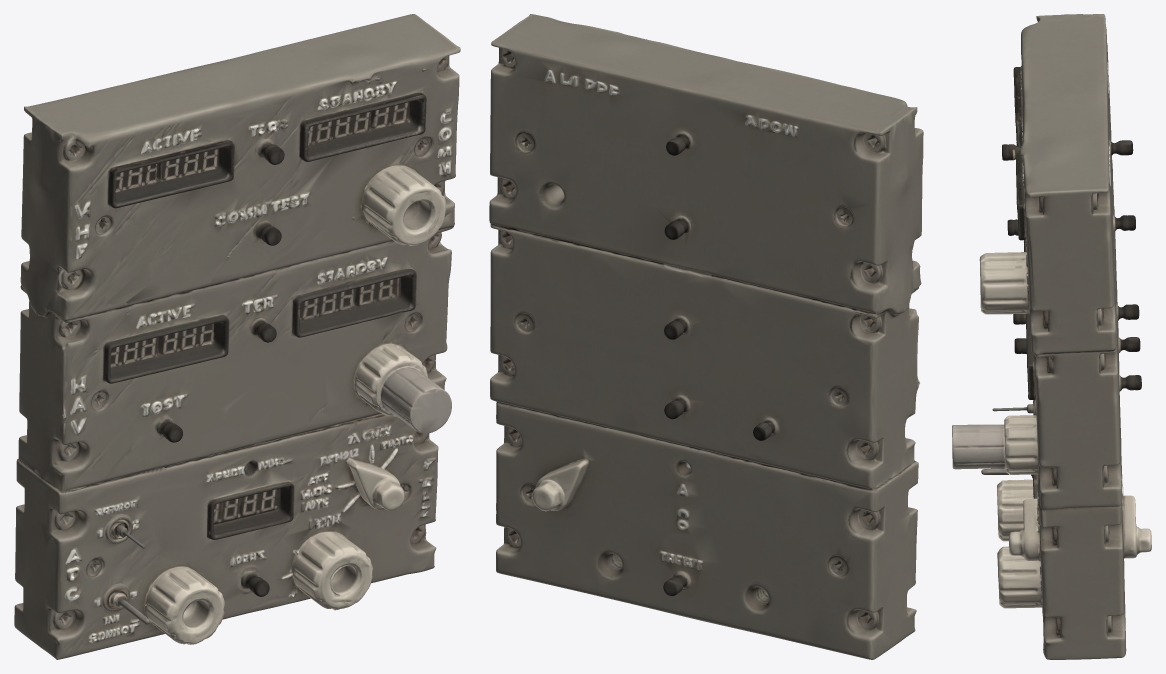
The model's file is radio.glb.
3 renders of one model, left to right at view 1: azimuth 30°, elevation 25°; view 2: azimuth 150°, elevation 25°; view 3: azimuth 270°, elevation 25°, orthographic. The views are drawn at different scales.
Visible parts, largest first — view 1: tripo_node_5fd65807-74f7-4a6d-9916-3d9a898b91c0; view 2: tripo_node_5fd65807-74f7-4a6d-9916-3d9a898b91c0; view 3: tripo_node_5fd65807-74f7-4a6d-9916-3d9a898b91c0.
Part boxes in pixels (bbox=[...]): tripo_node_5fd65807-74f7-4a6d-9916-3d9a898b91c0: bbox=[14, 14, 460, 659]; tripo_node_5fd65807-74f7-4a6d-9916-3d9a898b91c0: bbox=[489, 14, 923, 659]; tripo_node_5fd65807-74f7-4a6d-9916-3d9a898b91c0: bbox=[952, 14, 1151, 659].
Bounding box in the file's own units: 0.7742 × 0.9799 × 0.3699.
Materials: 1 (1 with a texture image).
